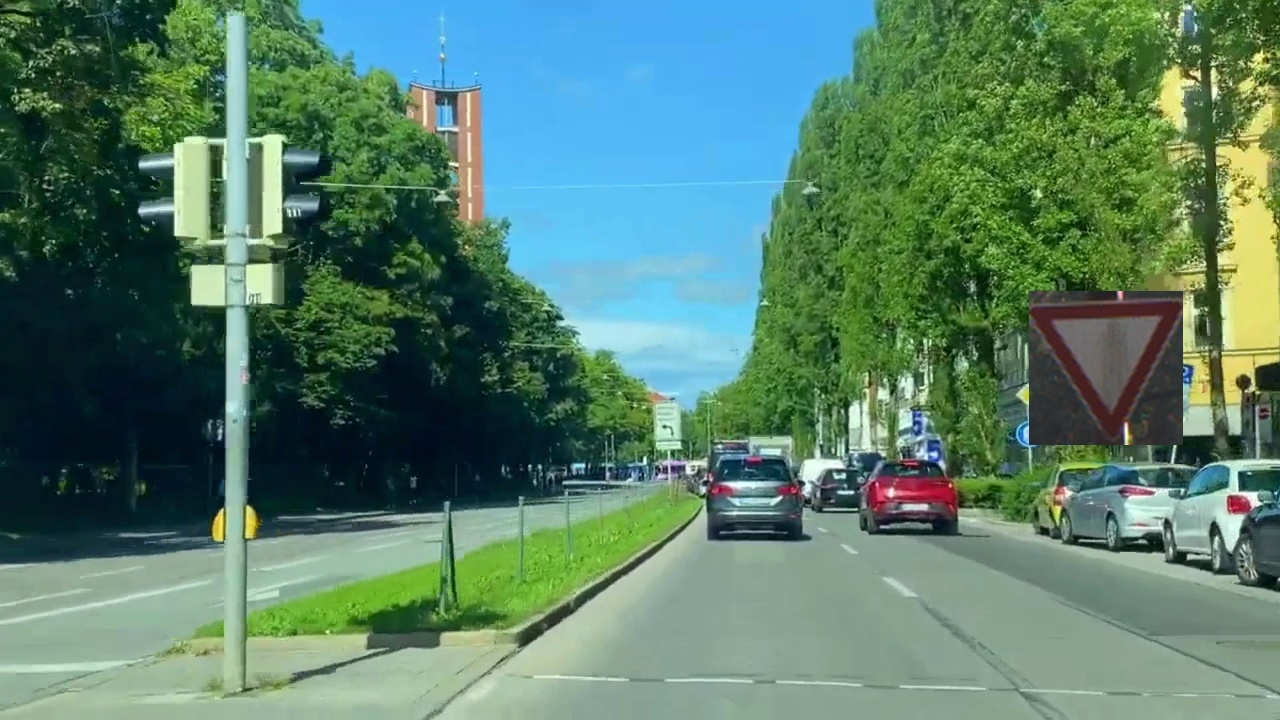Yield: (1029, 291, 1183, 445)
